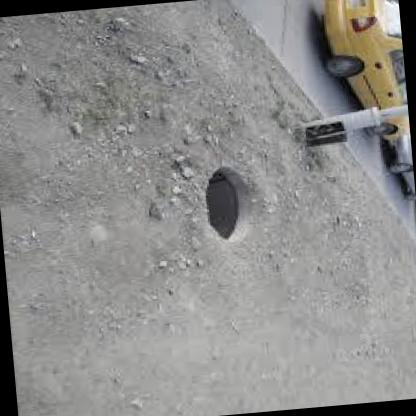manholes: (158, 133, 290, 278)
